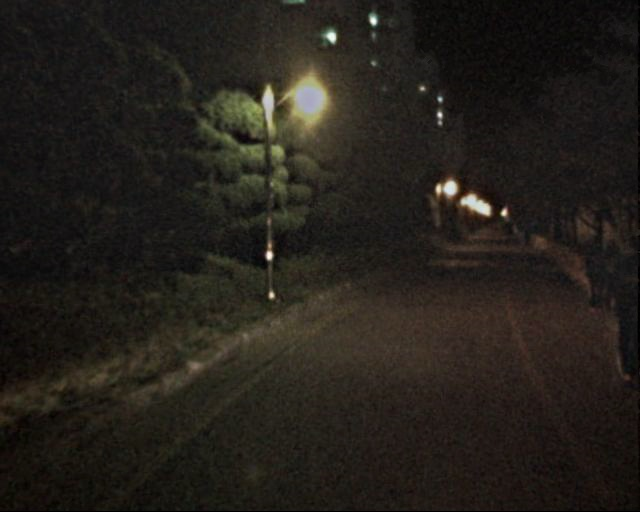person: (599, 232, 640, 383), (577, 236, 613, 323), (592, 235, 623, 310)
